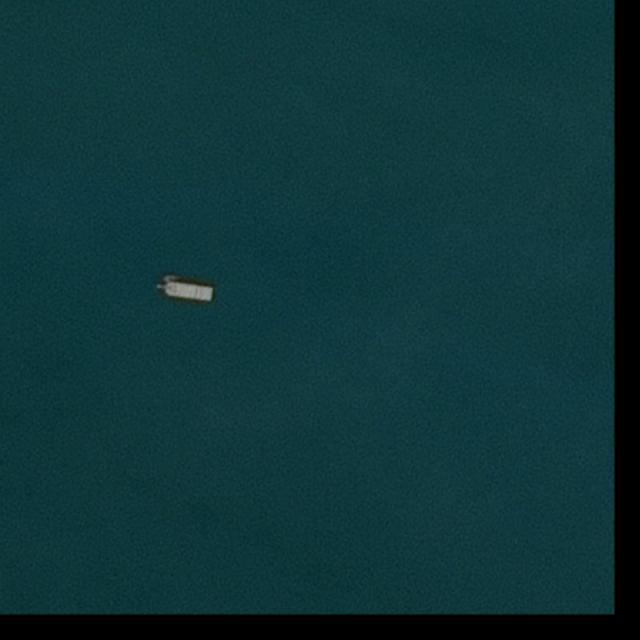ship: (155, 279, 215, 302), (161, 274, 178, 281)
